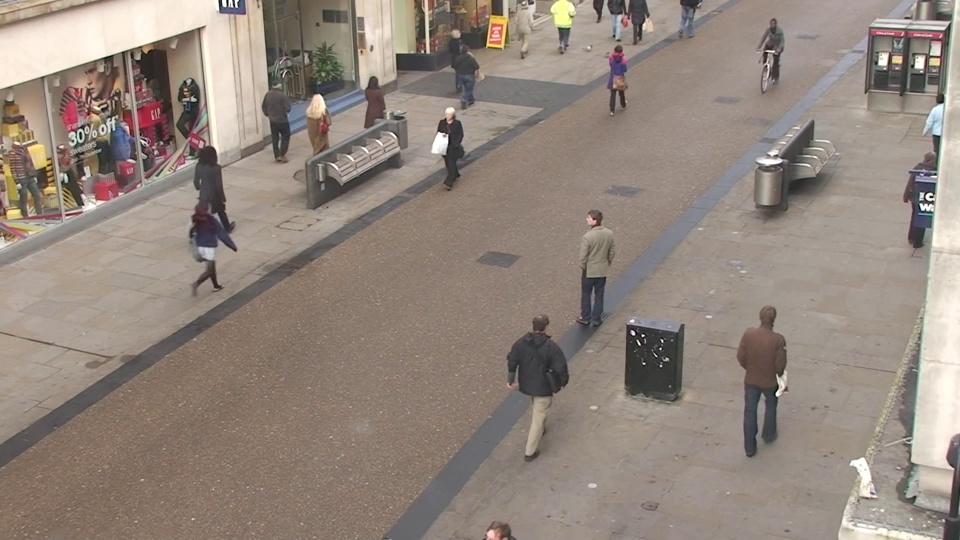pedestrian: (738, 299, 790, 443), (517, 307, 563, 452), (184, 196, 230, 311), (576, 204, 614, 324), (911, 89, 957, 183), (192, 146, 232, 248), (436, 103, 468, 195), (304, 90, 336, 177), (263, 76, 295, 158), (360, 72, 390, 154), (466, 507, 529, 540), (451, 41, 478, 116), (758, 15, 786, 85), (606, 41, 631, 116), (442, 26, 468, 96)
